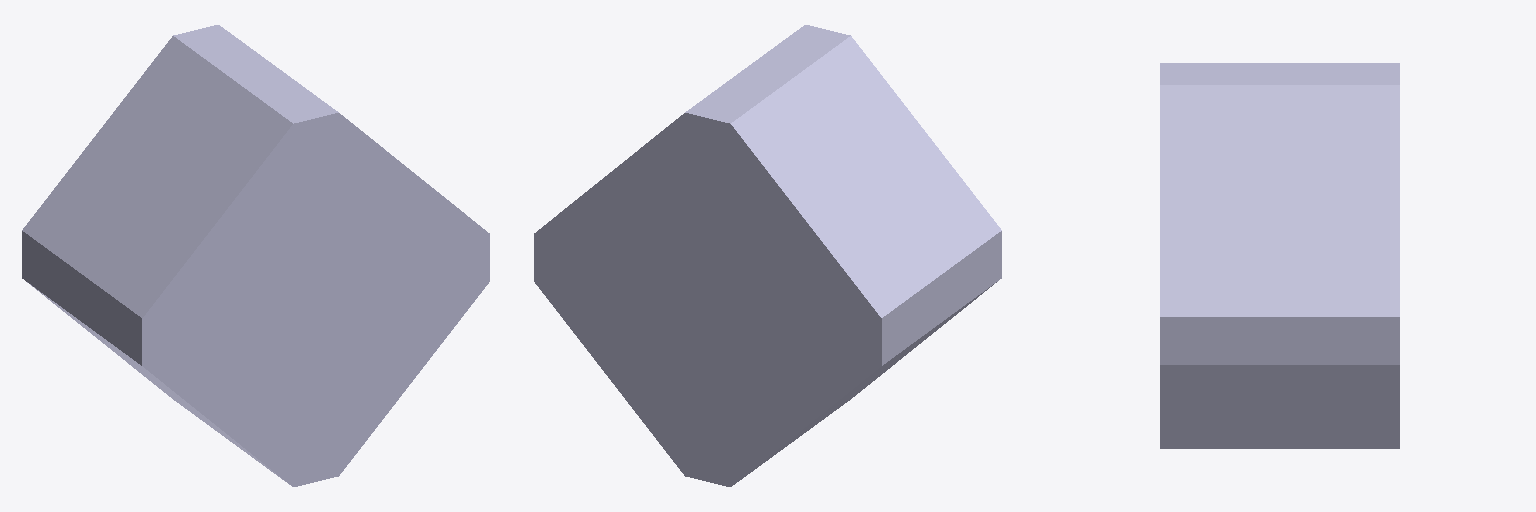
The model's file is vesuvianite.obj.
The picture shows the model from 3 angles: view 1: azimuth 30°, elevation 25°; view 2: azimuth 150°, elevation 25°; view 3: azimuth 270°, elevation 25°; orthographic projection.
Size of the model in its own units: 2 by 2 by 1.2.